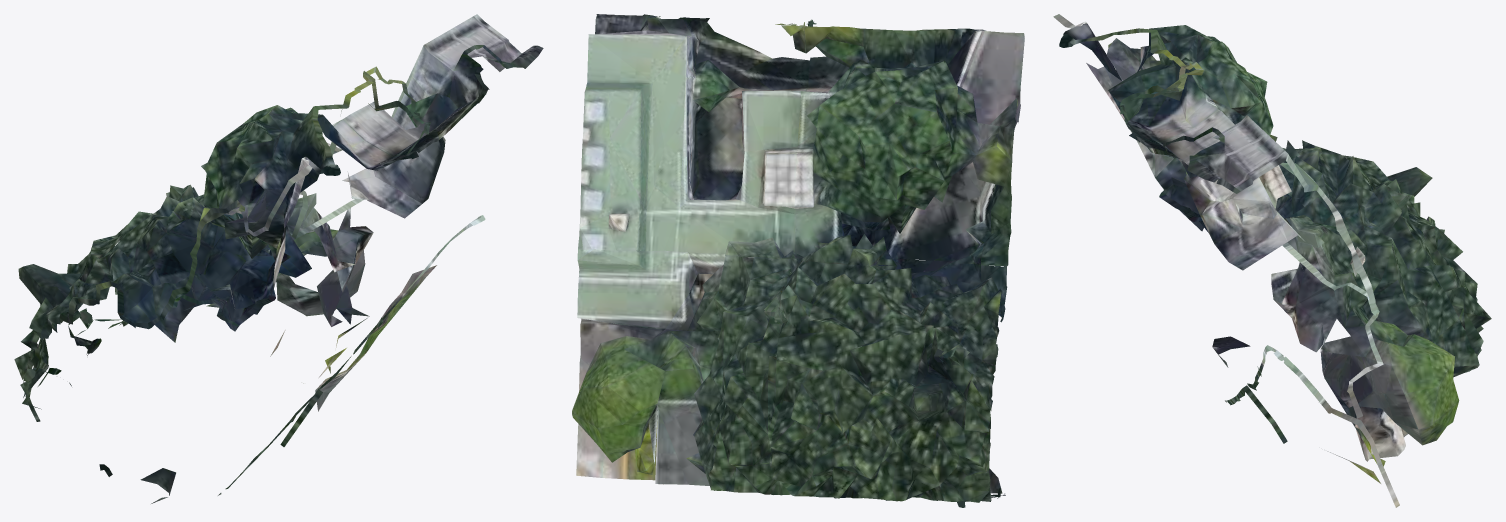
The model's file is AJVsH2zQN-I7WInm7wS5i8Id54-XVTPODffxwQqXWlYFTL2j9Fv5d09ni8-giVdY_Kue3hbtjOyknMUhAHFXIlxZwB4w5cpGgPjzeFl6ziWketEnwu47-ZlzS5Y0towL3ikwljYZlH77vEbj5TryPac1Y41j.glb.
The picture shows the model from 3 angles, left to right: view 1: azimuth 30°, elevation 25°; view 2: azimuth 150°, elevation 25°; view 3: azimuth 270°, elevation 25°; orthographic projection. The views are drawn at different scales.
Bounding box in the file's own units: 44.64 × 38.54 × 37.49.
Materials: 1 (1 with a texture image).
